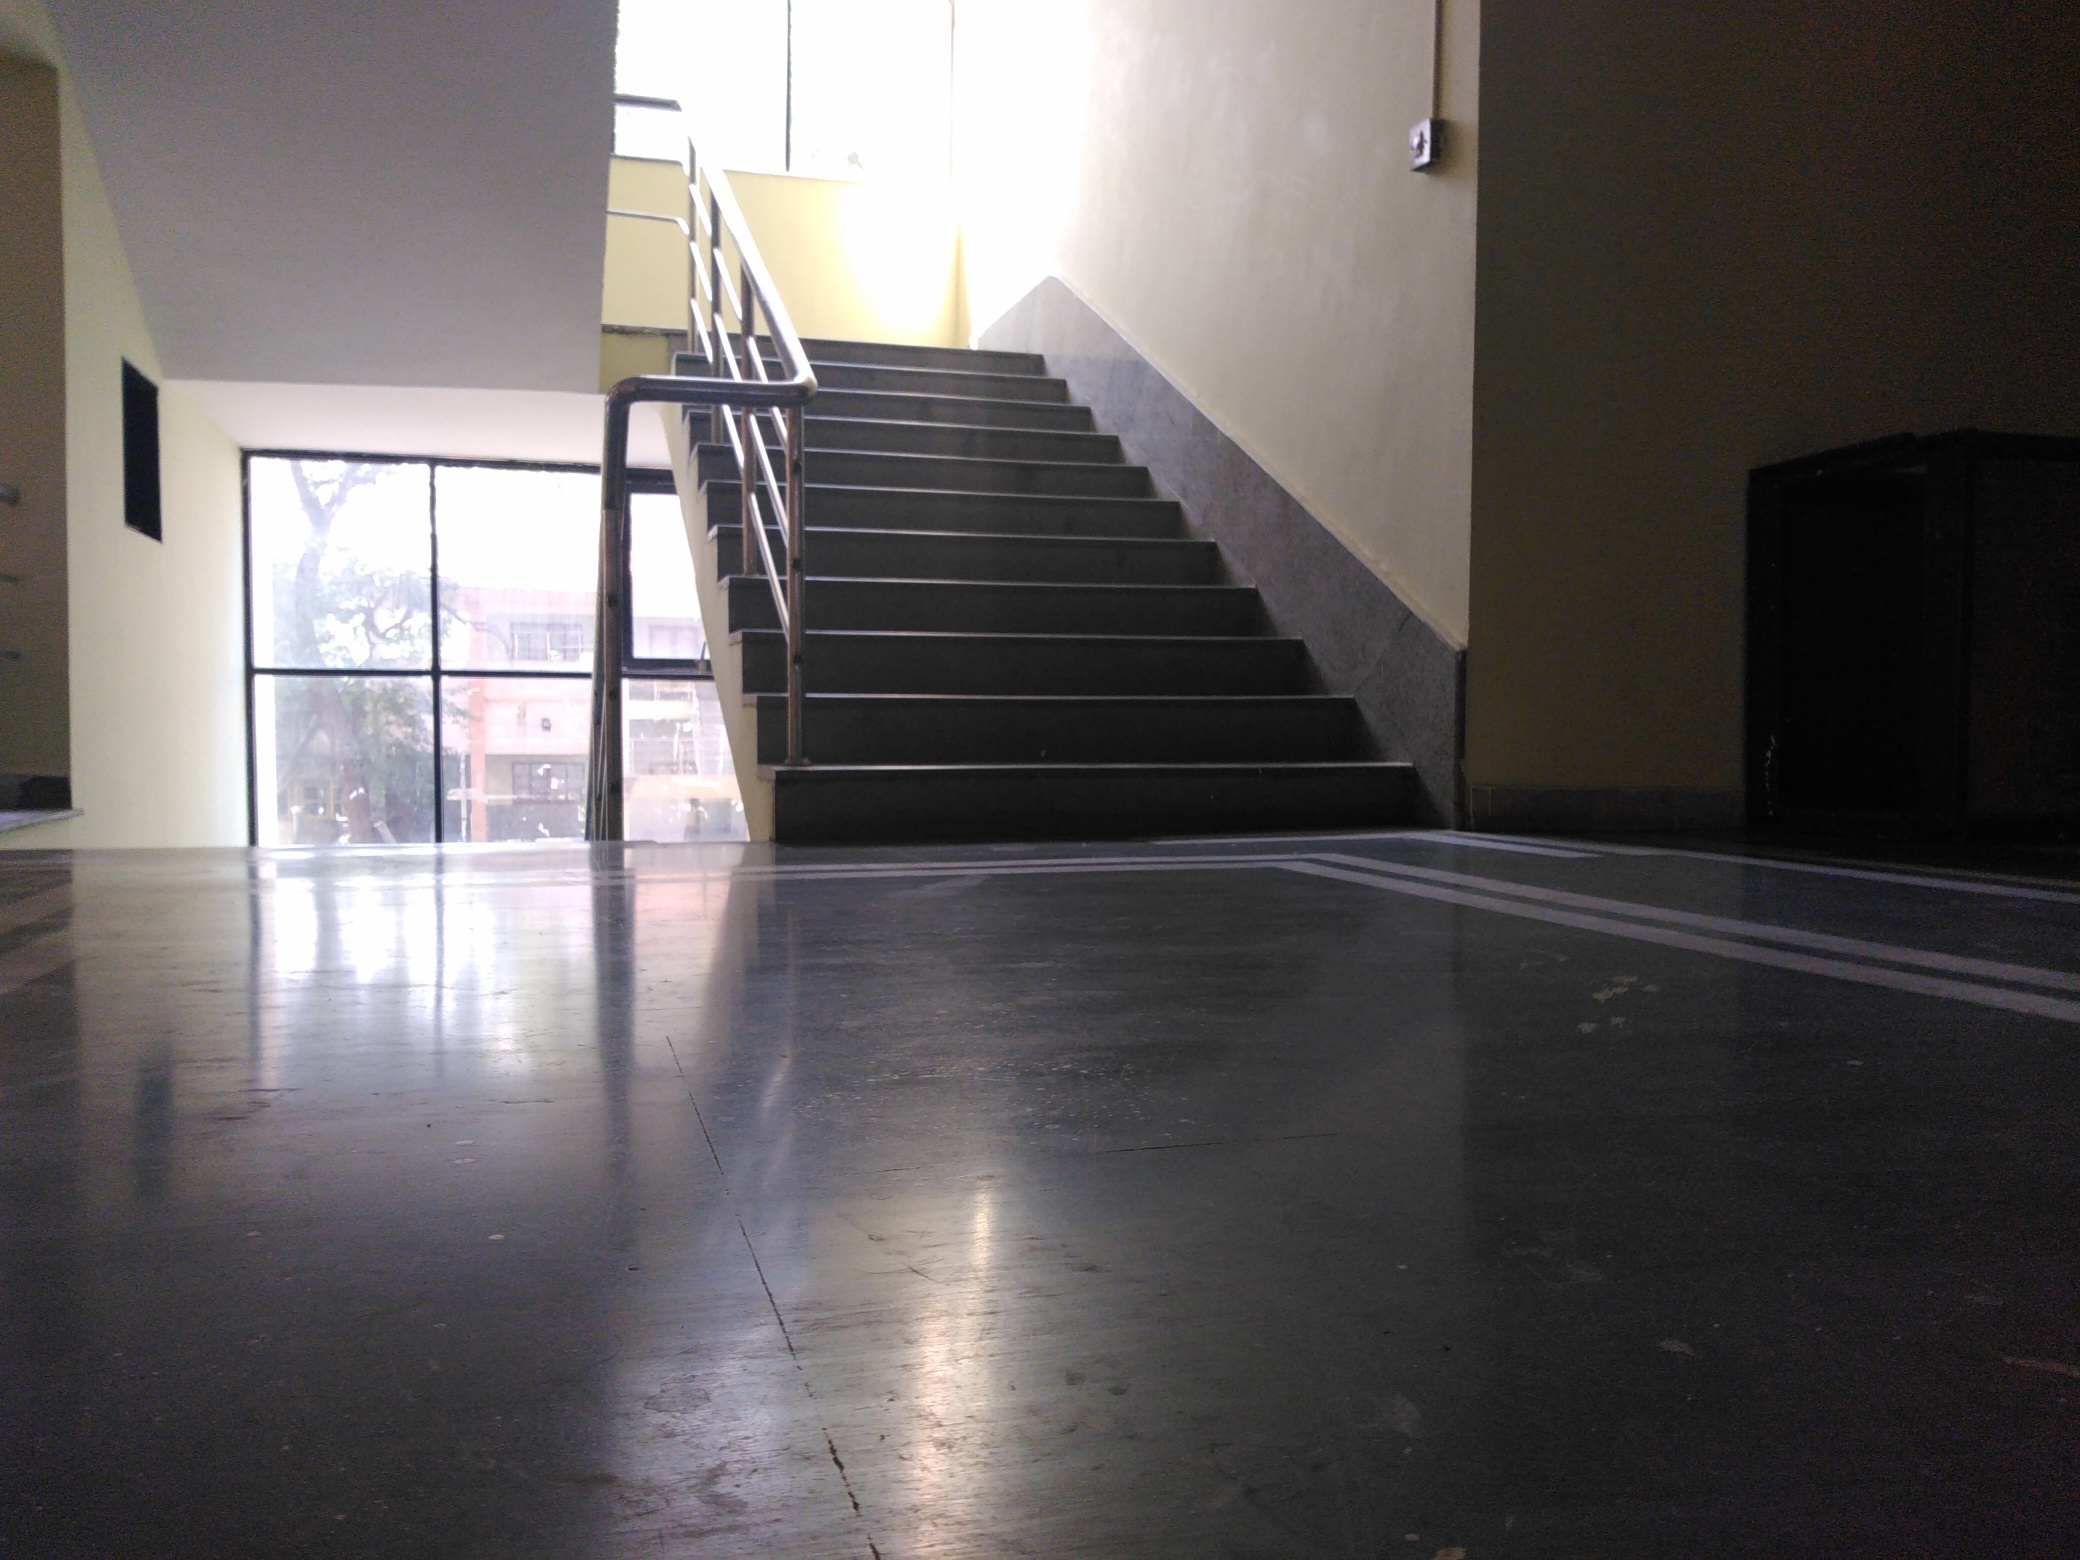stairs_up: (673, 323, 1431, 836)
